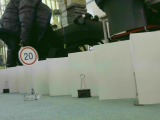speed_20: (16, 45, 39, 67)
